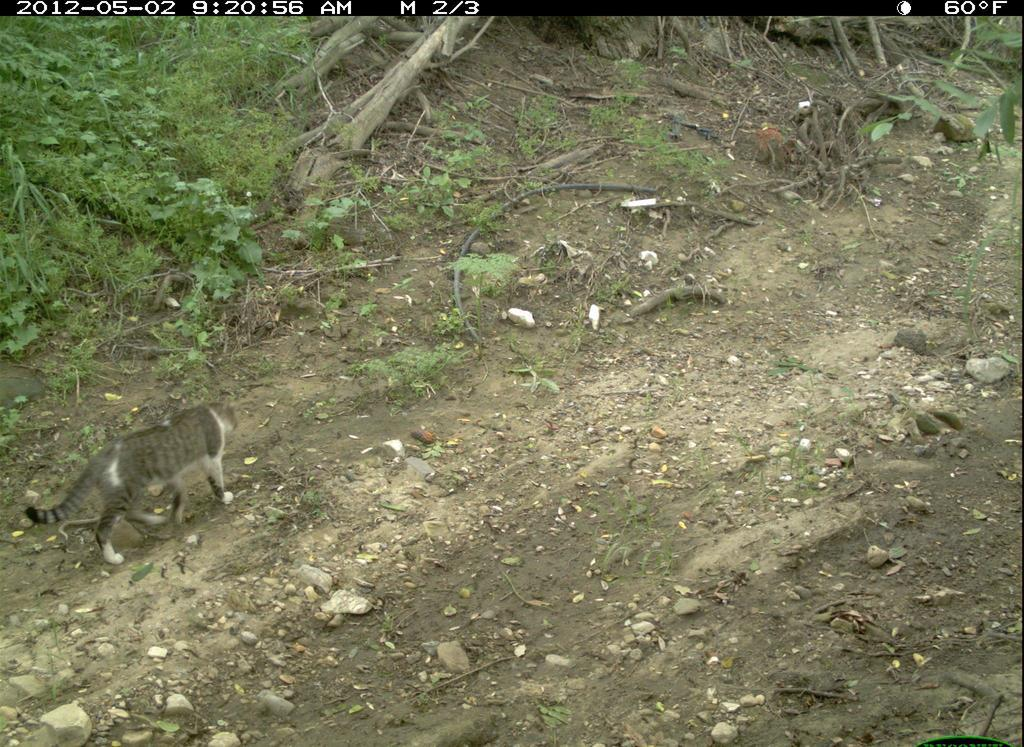cat: (16, 392, 254, 565)
